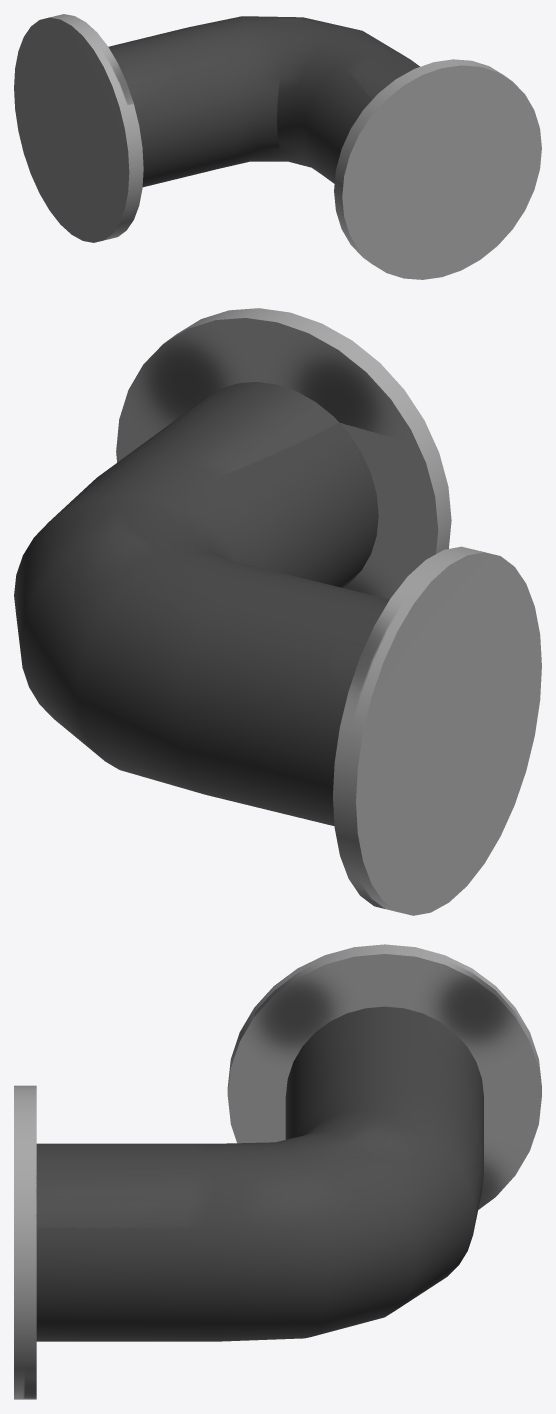
File: PipeTwo.fbx
The picture shows the model from 3 angles, top to bottom: view 1: azimuth 30°, elevation 25°; view 2: azimuth 150°, elevation 25°; view 3: azimuth 270°, elevation 25°; orthographic projection. The views are drawn at different scales.
Visible parts, largest first — view 1: Cylinder; view 2: Cylinder; view 3: Cylinder.
Part boxes in pixels (x1=…): Cylinder: x1=14, y1=14, x2=541, y2=279; Cylinder: x1=14, y1=308, x2=541, y2=915; Cylinder: x1=14, y1=944, x2=541, y2=1399.
Bounding box in the file's own units: 153 × 91.55 × 154.
Materials: 1 (1 with a texture image).
